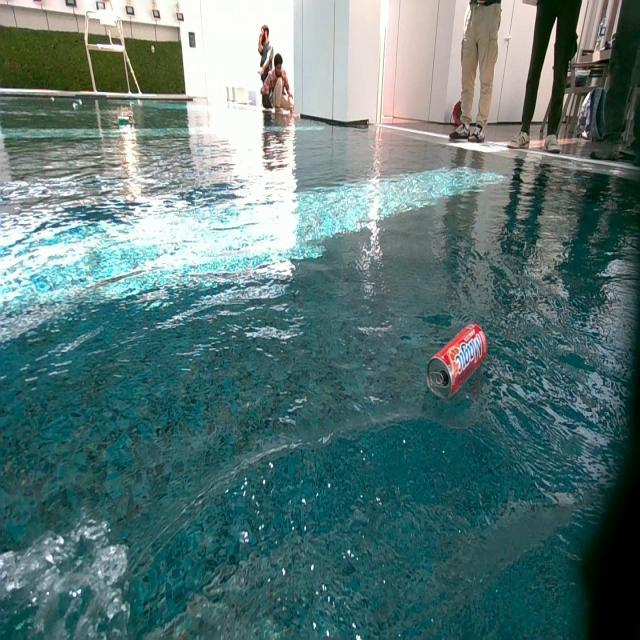Cans: (427, 322, 490, 400), (117, 116, 130, 123), (72, 99, 82, 108), (49, 98, 55, 104)
